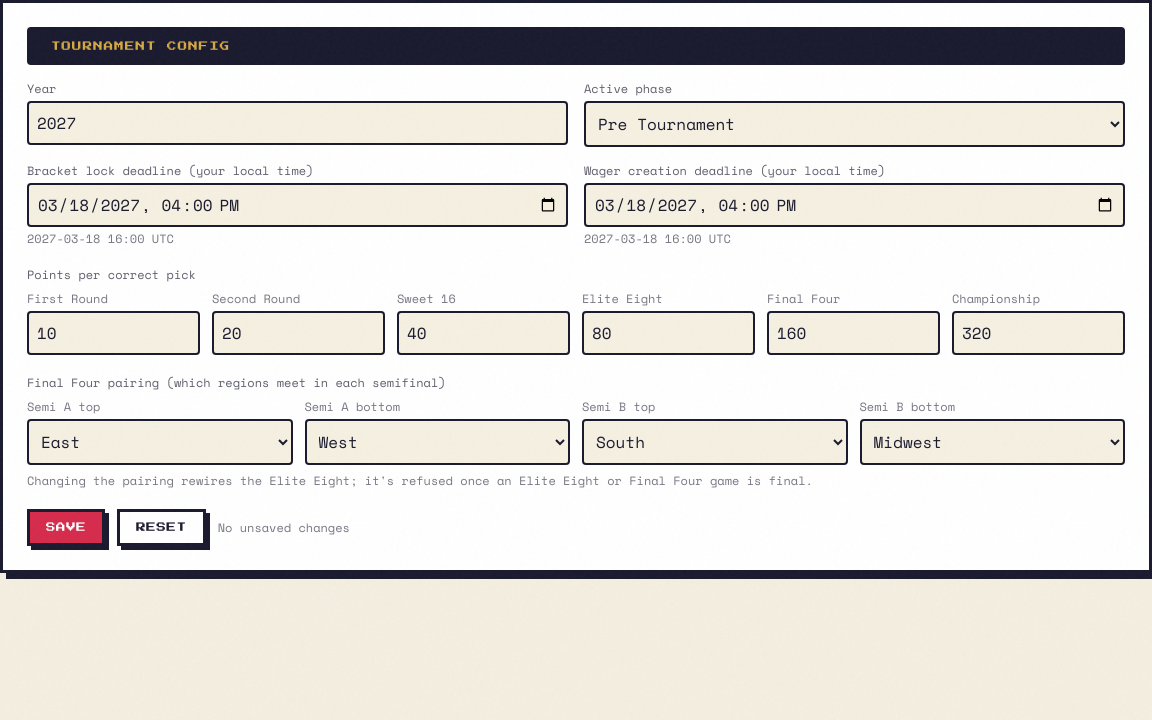
Test: ConfigForm › disables Save with no changes, then sends ONE PUT with only the changed fields
Check: the button "Save" is disabled, box left=27, top=509, right=105, bottom=546
Replace the text in the field labelled "Bracket lock deadline (your local time)" with "2027-03-18T13:30" at (298, 205), box left=27, top=183, right=568, bottom=227
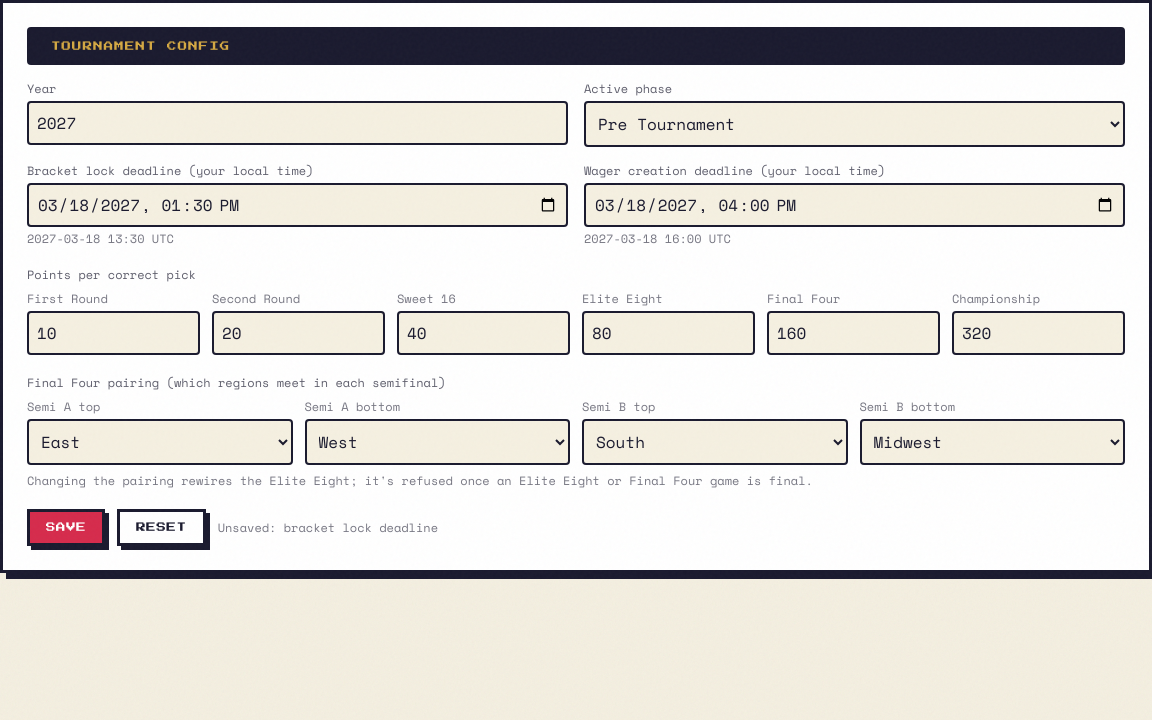
Check: the text with test id "lock-utc" shows "UTC", box left=27, top=230, right=174, bottom=247
Replace the text in the number field labelled "Championship" with "400" at (1038, 333), box left=952, top=311, right=1125, bottom=355
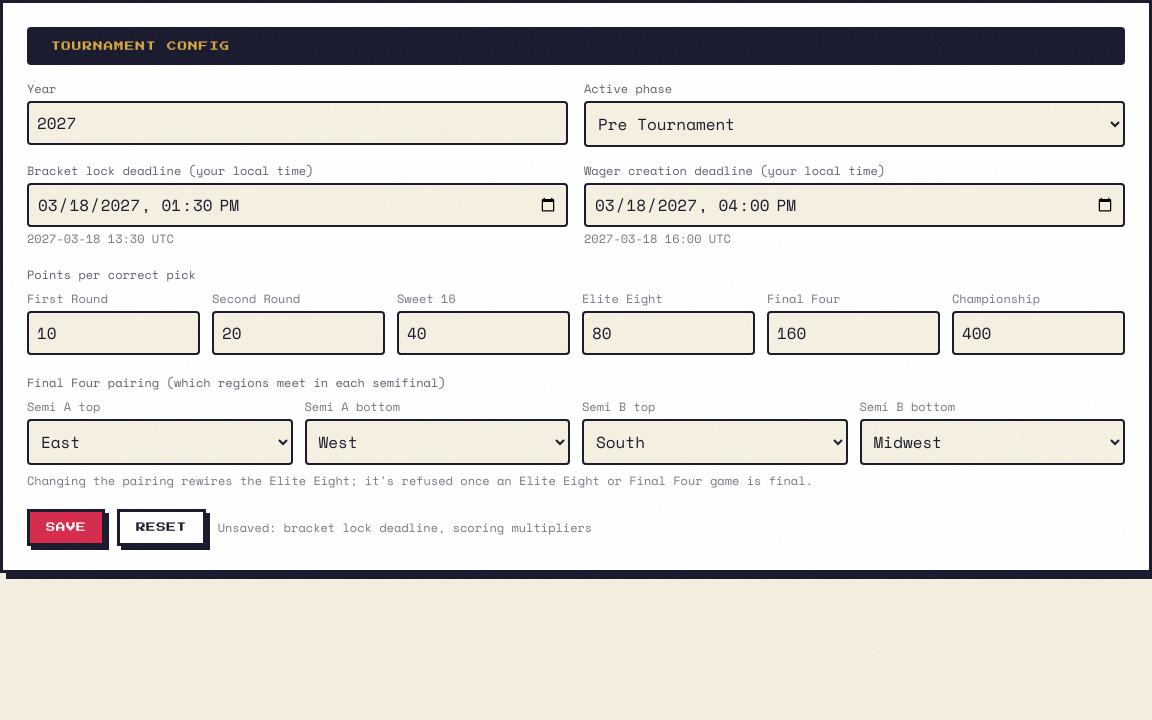
Click the button "Save" at (66, 528), box left=27, top=509, right=105, bottom=546
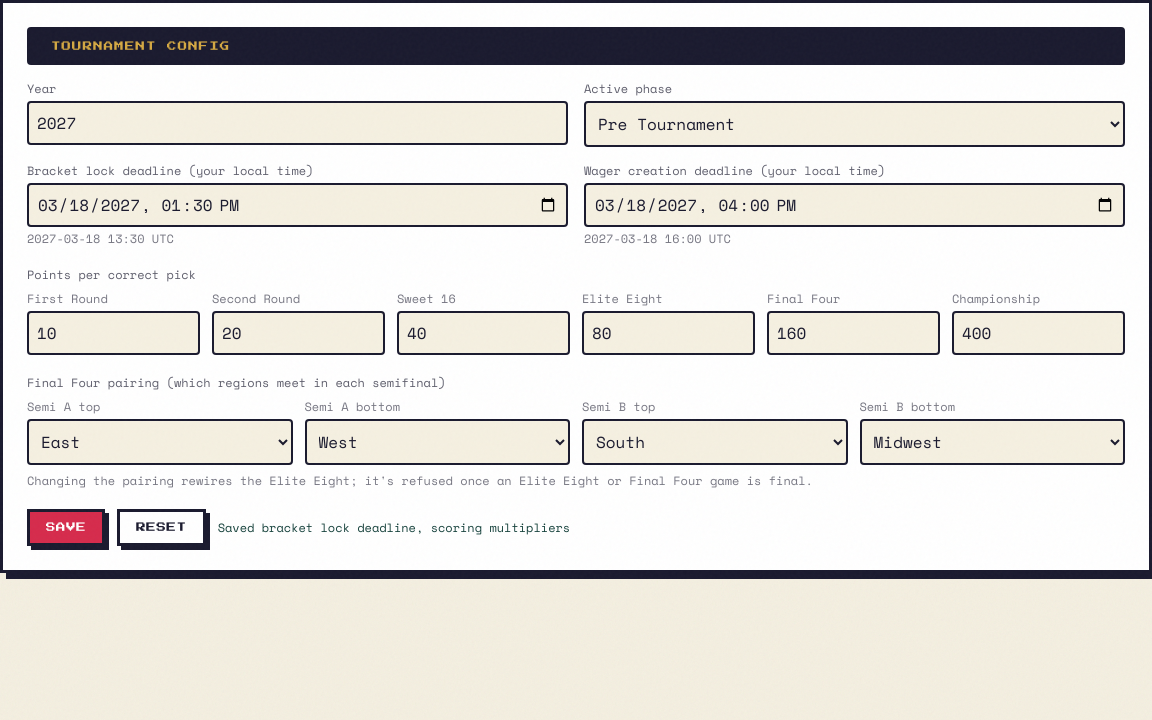
Check: the text "Saved bracket lock deadline, scoring multipliers" is shown, box left=218, top=519, right=570, bottom=536
